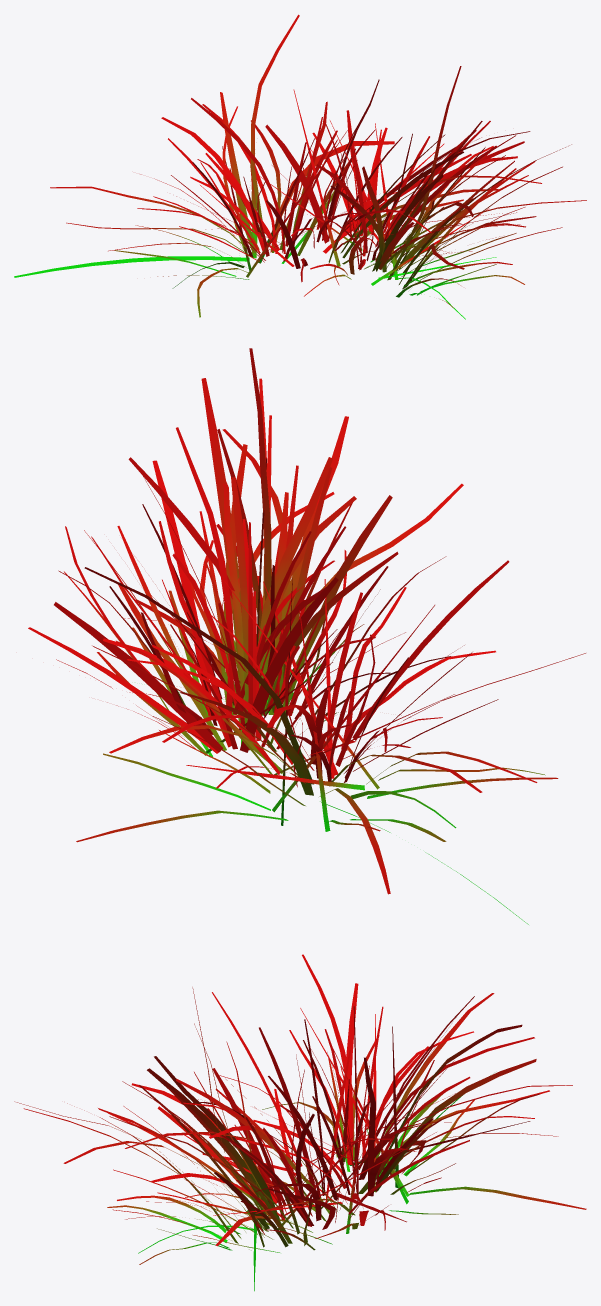
Rendered from Var6_LOD1.fbx.
The picture shows the model from 3 angles, top to bottom: view 1: azimuth 30°, elevation 25°; view 2: azimuth 150°, elevation 25°; view 3: azimuth 270°, elevation 25°; orthographic projection. The views are drawn at different scales.
Parts seen in each view (by area): view 1: _ajvc_Var6_LOD1; view 2: _ajvc_Var6_LOD1; view 3: _ajvc_Var6_LOD1.
Part boxes in pixels (left/top/right/bottom): _ajvc_Var6_LOD1: left=14, top=14, right=586, bottom=319; _ajvc_Var6_LOD1: left=28, top=348, right=585, bottom=924; _ajvc_Var6_LOD1: left=14, top=954, right=586, bottom=1291.
Size of the model in its own units: 28.93 by 15.65 by 28.78.
